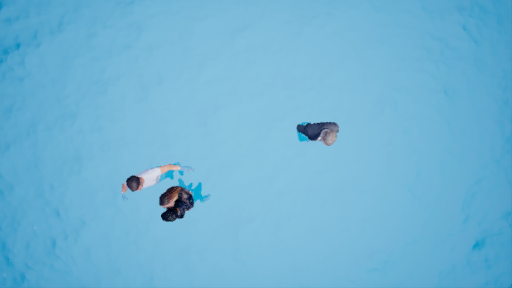person: (114, 154, 196, 188), (297, 109, 348, 160), (158, 181, 218, 221)
